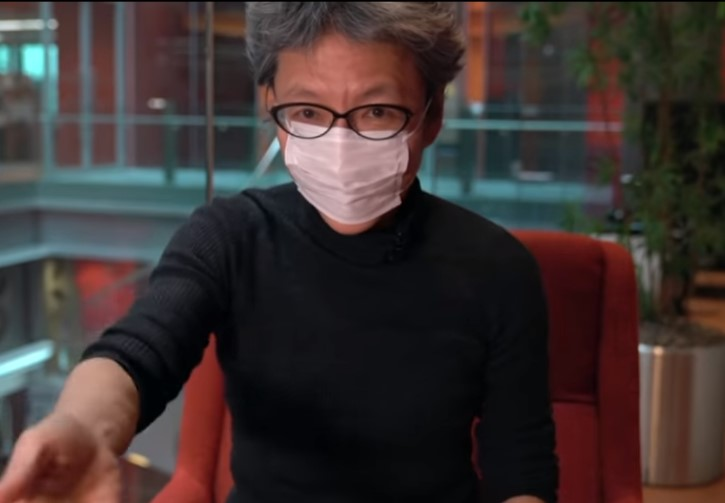face_with_mask: (241, 0, 466, 243)
